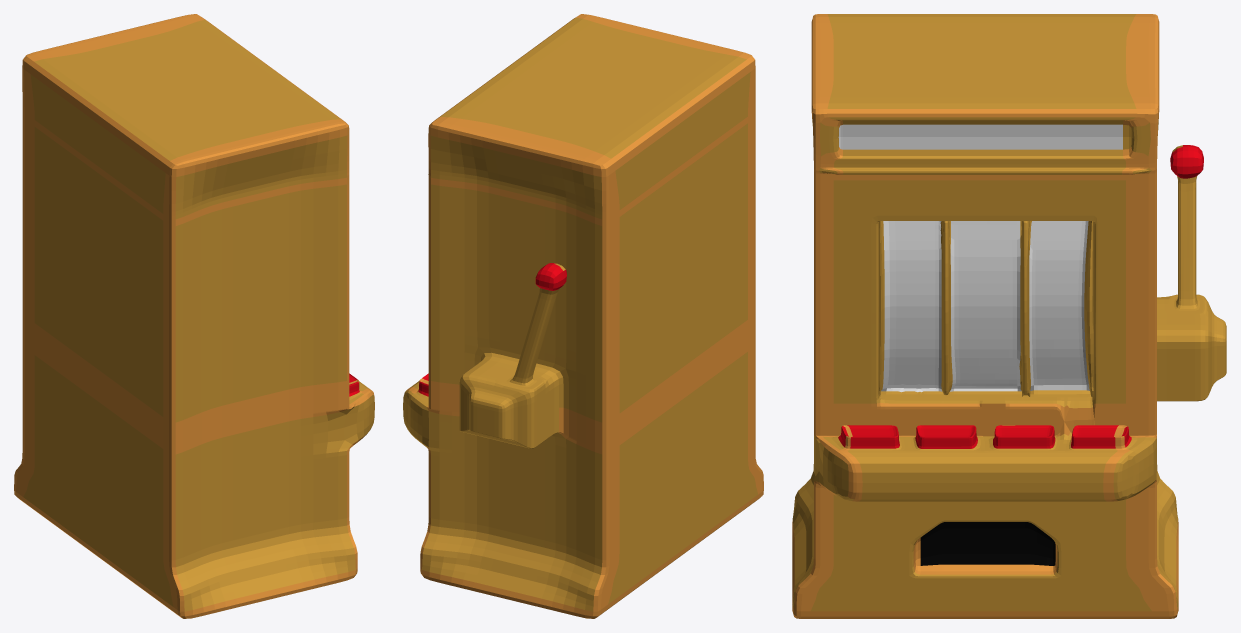
Rendered from Slot_Machine.fbx.
3 views of the same model, side by side, from view 1: azimuth 30°, elevation 25°; view 2: azimuth 150°, elevation 25°; view 3: azimuth 270°, elevation 25° (orthographic). The views are drawn at different scales.
Visible parts, largest first — view 1: Cube.101; view 2: Cube.101; view 3: Cube.101.
Boxes of the visible parts, left/top/right/bottom form: Cube.101: left=14, top=14, right=374, bottom=618; Cube.101: left=403, top=14, right=763, bottom=618; Cube.101: left=792, top=14, right=1226, bottom=618.
Bounding box in the file's own units: 34393 × 67212 × 51576.
